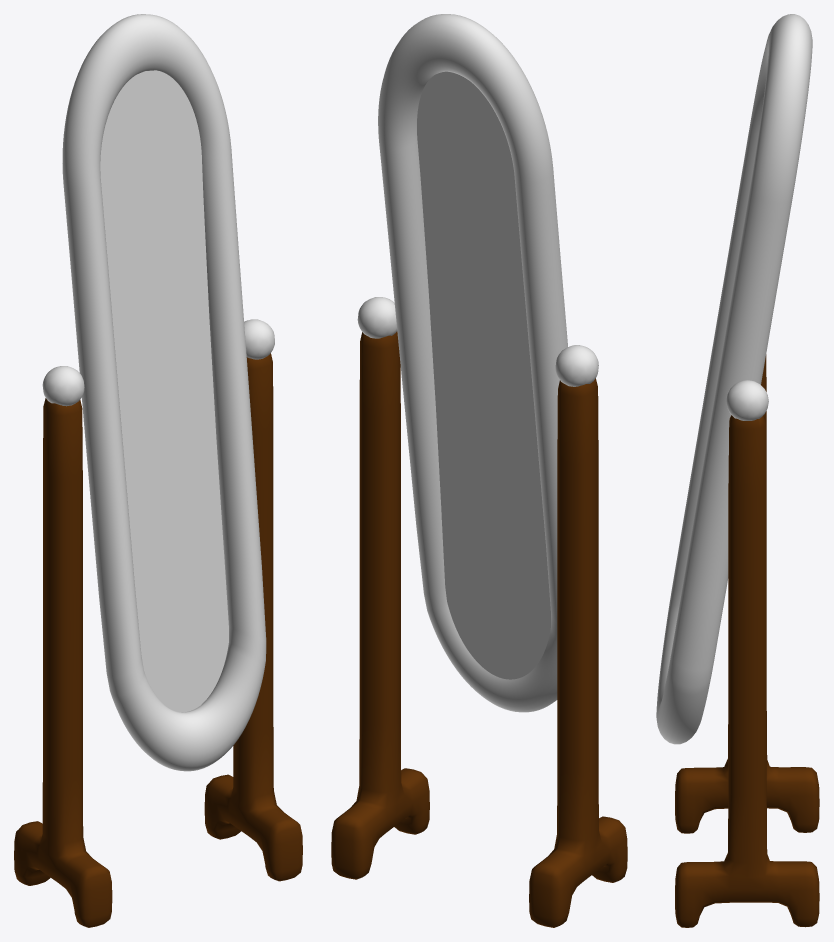
Rendered from mirror.fbx.
The picture shows the model from 3 angles, left to right: view 1: azimuth 30°, elevation 25°; view 2: azimuth 150°, elevation 25°; view 3: azimuth 270°, elevation 25°; orthographic projection. The views are drawn at different scales.
Parts seen in each view (by area): view 1: Plane; view 2: Plane; view 3: Plane.
Boxes of the visible parts, x1,y1,x2,y2 form: Plane: (14, 14, 302, 927); Plane: (331, 14, 627, 927); Plane: (656, 14, 819, 927).
Size of the model in its own units: 1495 by 5332 by 919.
